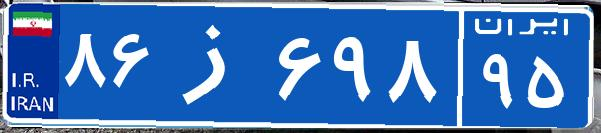5: (525, 38, 570, 115)
6: (273, 28, 330, 110), (110, 28, 158, 105)
8: (385, 28, 445, 110), (57, 26, 110, 107)
9: (330, 28, 385, 110), (475, 38, 525, 113)
ز: (158, 15, 273, 115)
